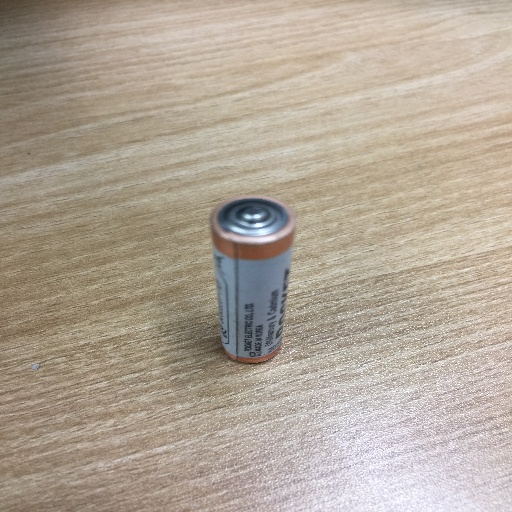Battery_0: (207, 187, 301, 378)
